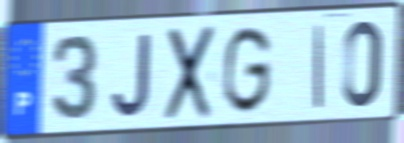0: (341, 17, 384, 111)
3: (48, 33, 102, 125)
G: (220, 23, 274, 118)
I: (312, 22, 326, 111)
J: (110, 31, 153, 121)
X: (162, 22, 218, 124)
